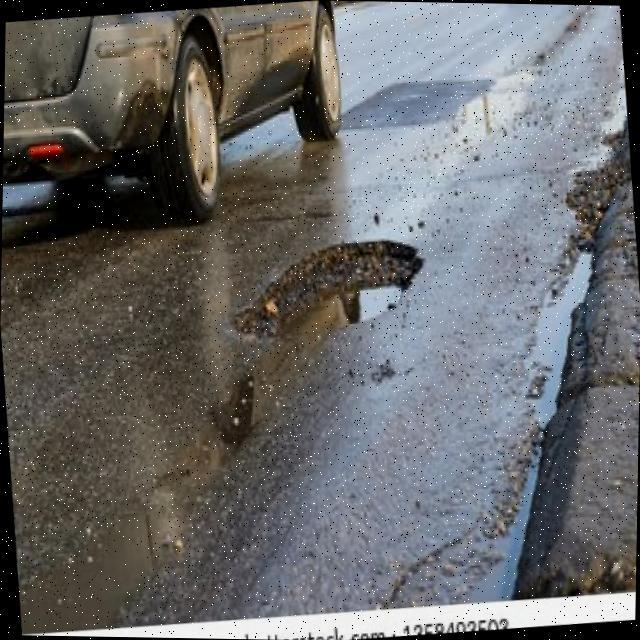Pothole: (236, 240, 425, 345)
